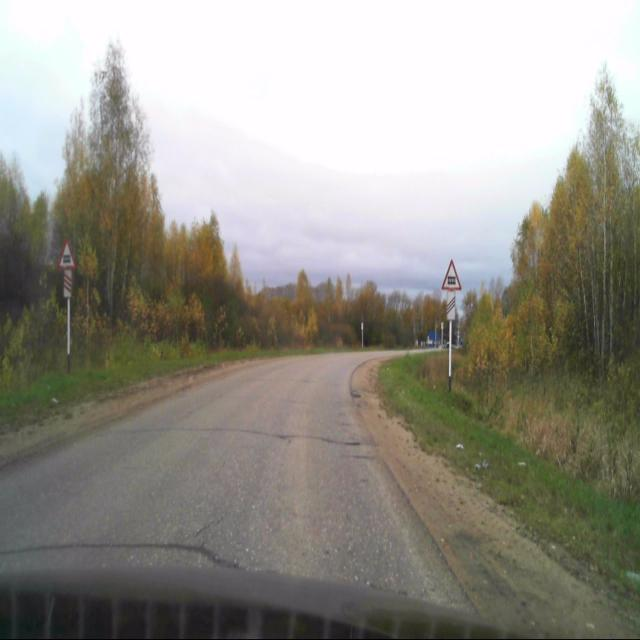road sign: (440, 257, 460, 291), (58, 240, 76, 268)
